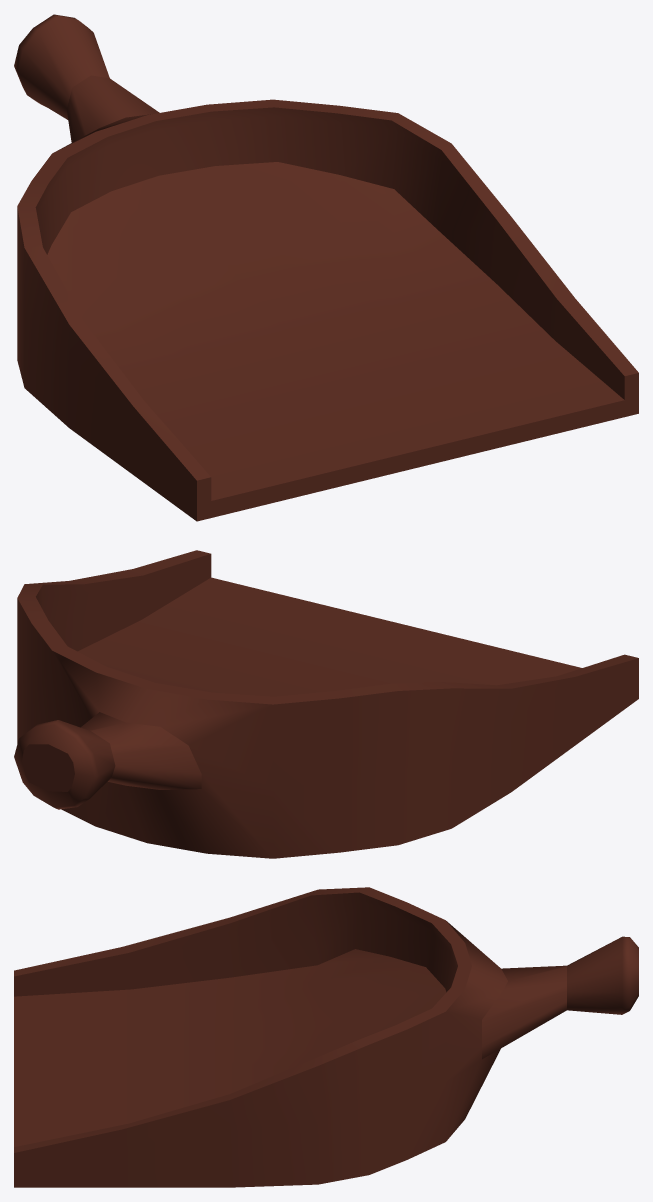
Rendered from ITM_Dustpan_02.fbx.
3 views of the same model, one above another, from view 1: azimuth 30°, elevation 25°; view 2: azimuth 150°, elevation 25°; view 3: azimuth 270°, elevation 25° (orthographic). The views are drawn at different scales.
Parts seen in each view (by area): view 1: dustpan; view 2: dustpan; view 3: dustpan.
Boxes of the visible parts, <box> form: dustpan: <box>14,14,638,521</box>; dustpan: <box>14,550,638,858</box>; dustpan: <box>14,887,638,1187</box>.
Bounding box in the file's own units: 30.48 × 12.4 × 44.11.
